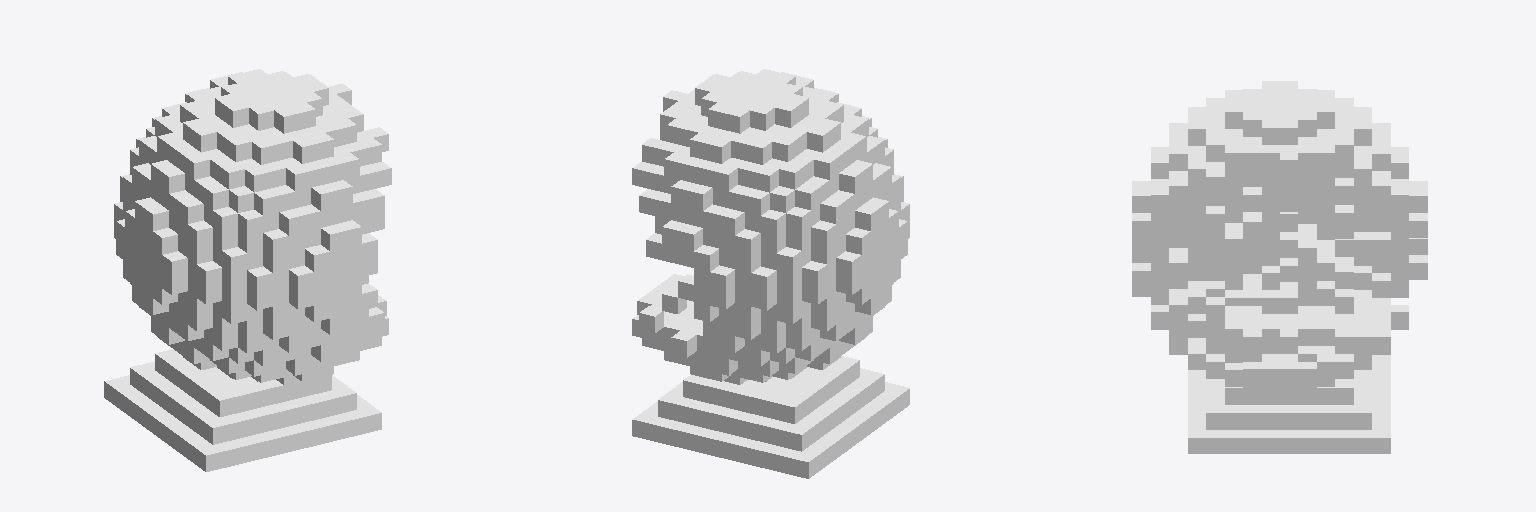
File: pacman4.obj
3 renders of one model, left to right at view 1: azimuth 30°, elevation 25°; view 2: azimuth 150°, elevation 25°; view 3: azimuth 270°, elevation 25°, orthographic.
Visible parts, largest first — view 1: object 1; view 2: object 1; view 3: object 1.
Boxes of the visible parts, x1,y1,x2,y2 form: object 1: [104, 69, 391, 471]; object 1: [632, 69, 909, 478]; object 1: [1132, 81, 1427, 453].
Bounding box in the file's own units: 1.4 × 1.9 × 1.6.